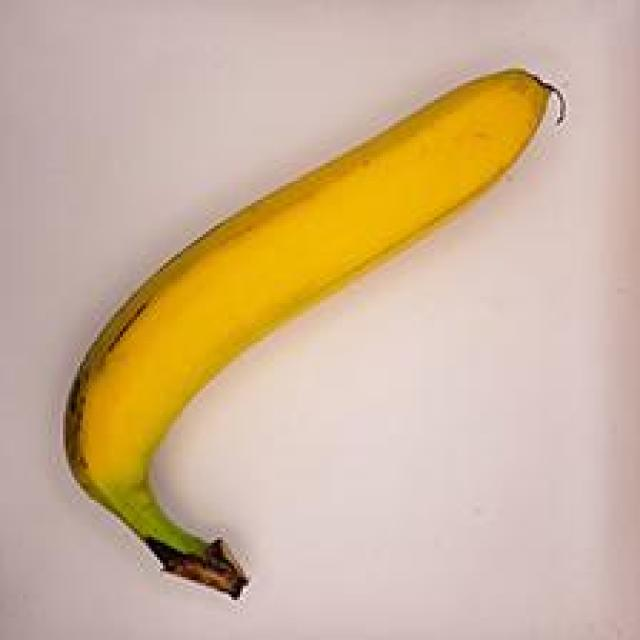Ripe: (43, 56, 573, 619)
